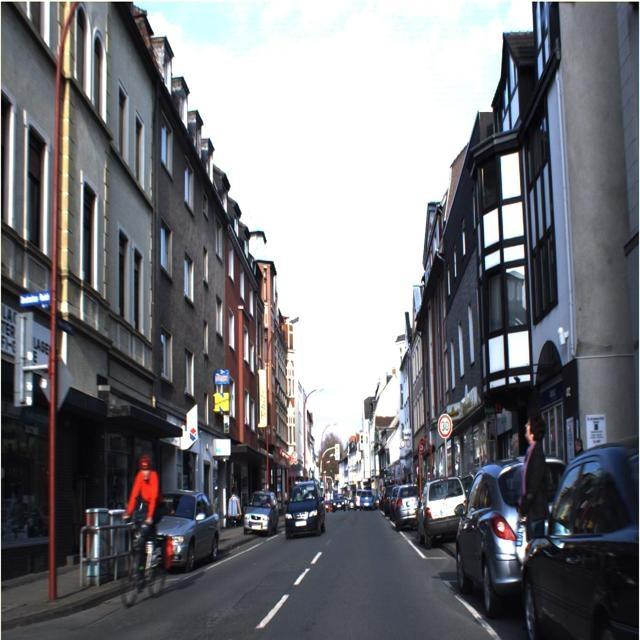forb_speed_over_30: (437, 413, 452, 439)
